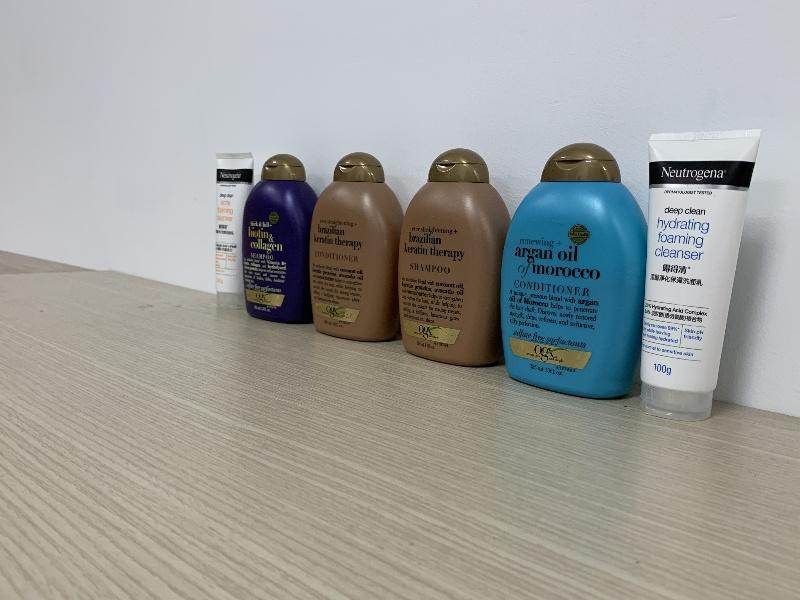AcneFoamingCleanser: (215, 153, 242, 311)
ArganOilOfMorocco_Conditioner: (500, 142, 641, 399)
BiotinCollagen_Shampoo: (242, 154, 309, 324)
BrazilianKeratinTherapy_Shampoo: (398, 147, 501, 368)
BrazilianKerationTherapy_Conditioner: (310, 152, 399, 341)
HydratingFoamingCleanser: (640, 128, 761, 422)
